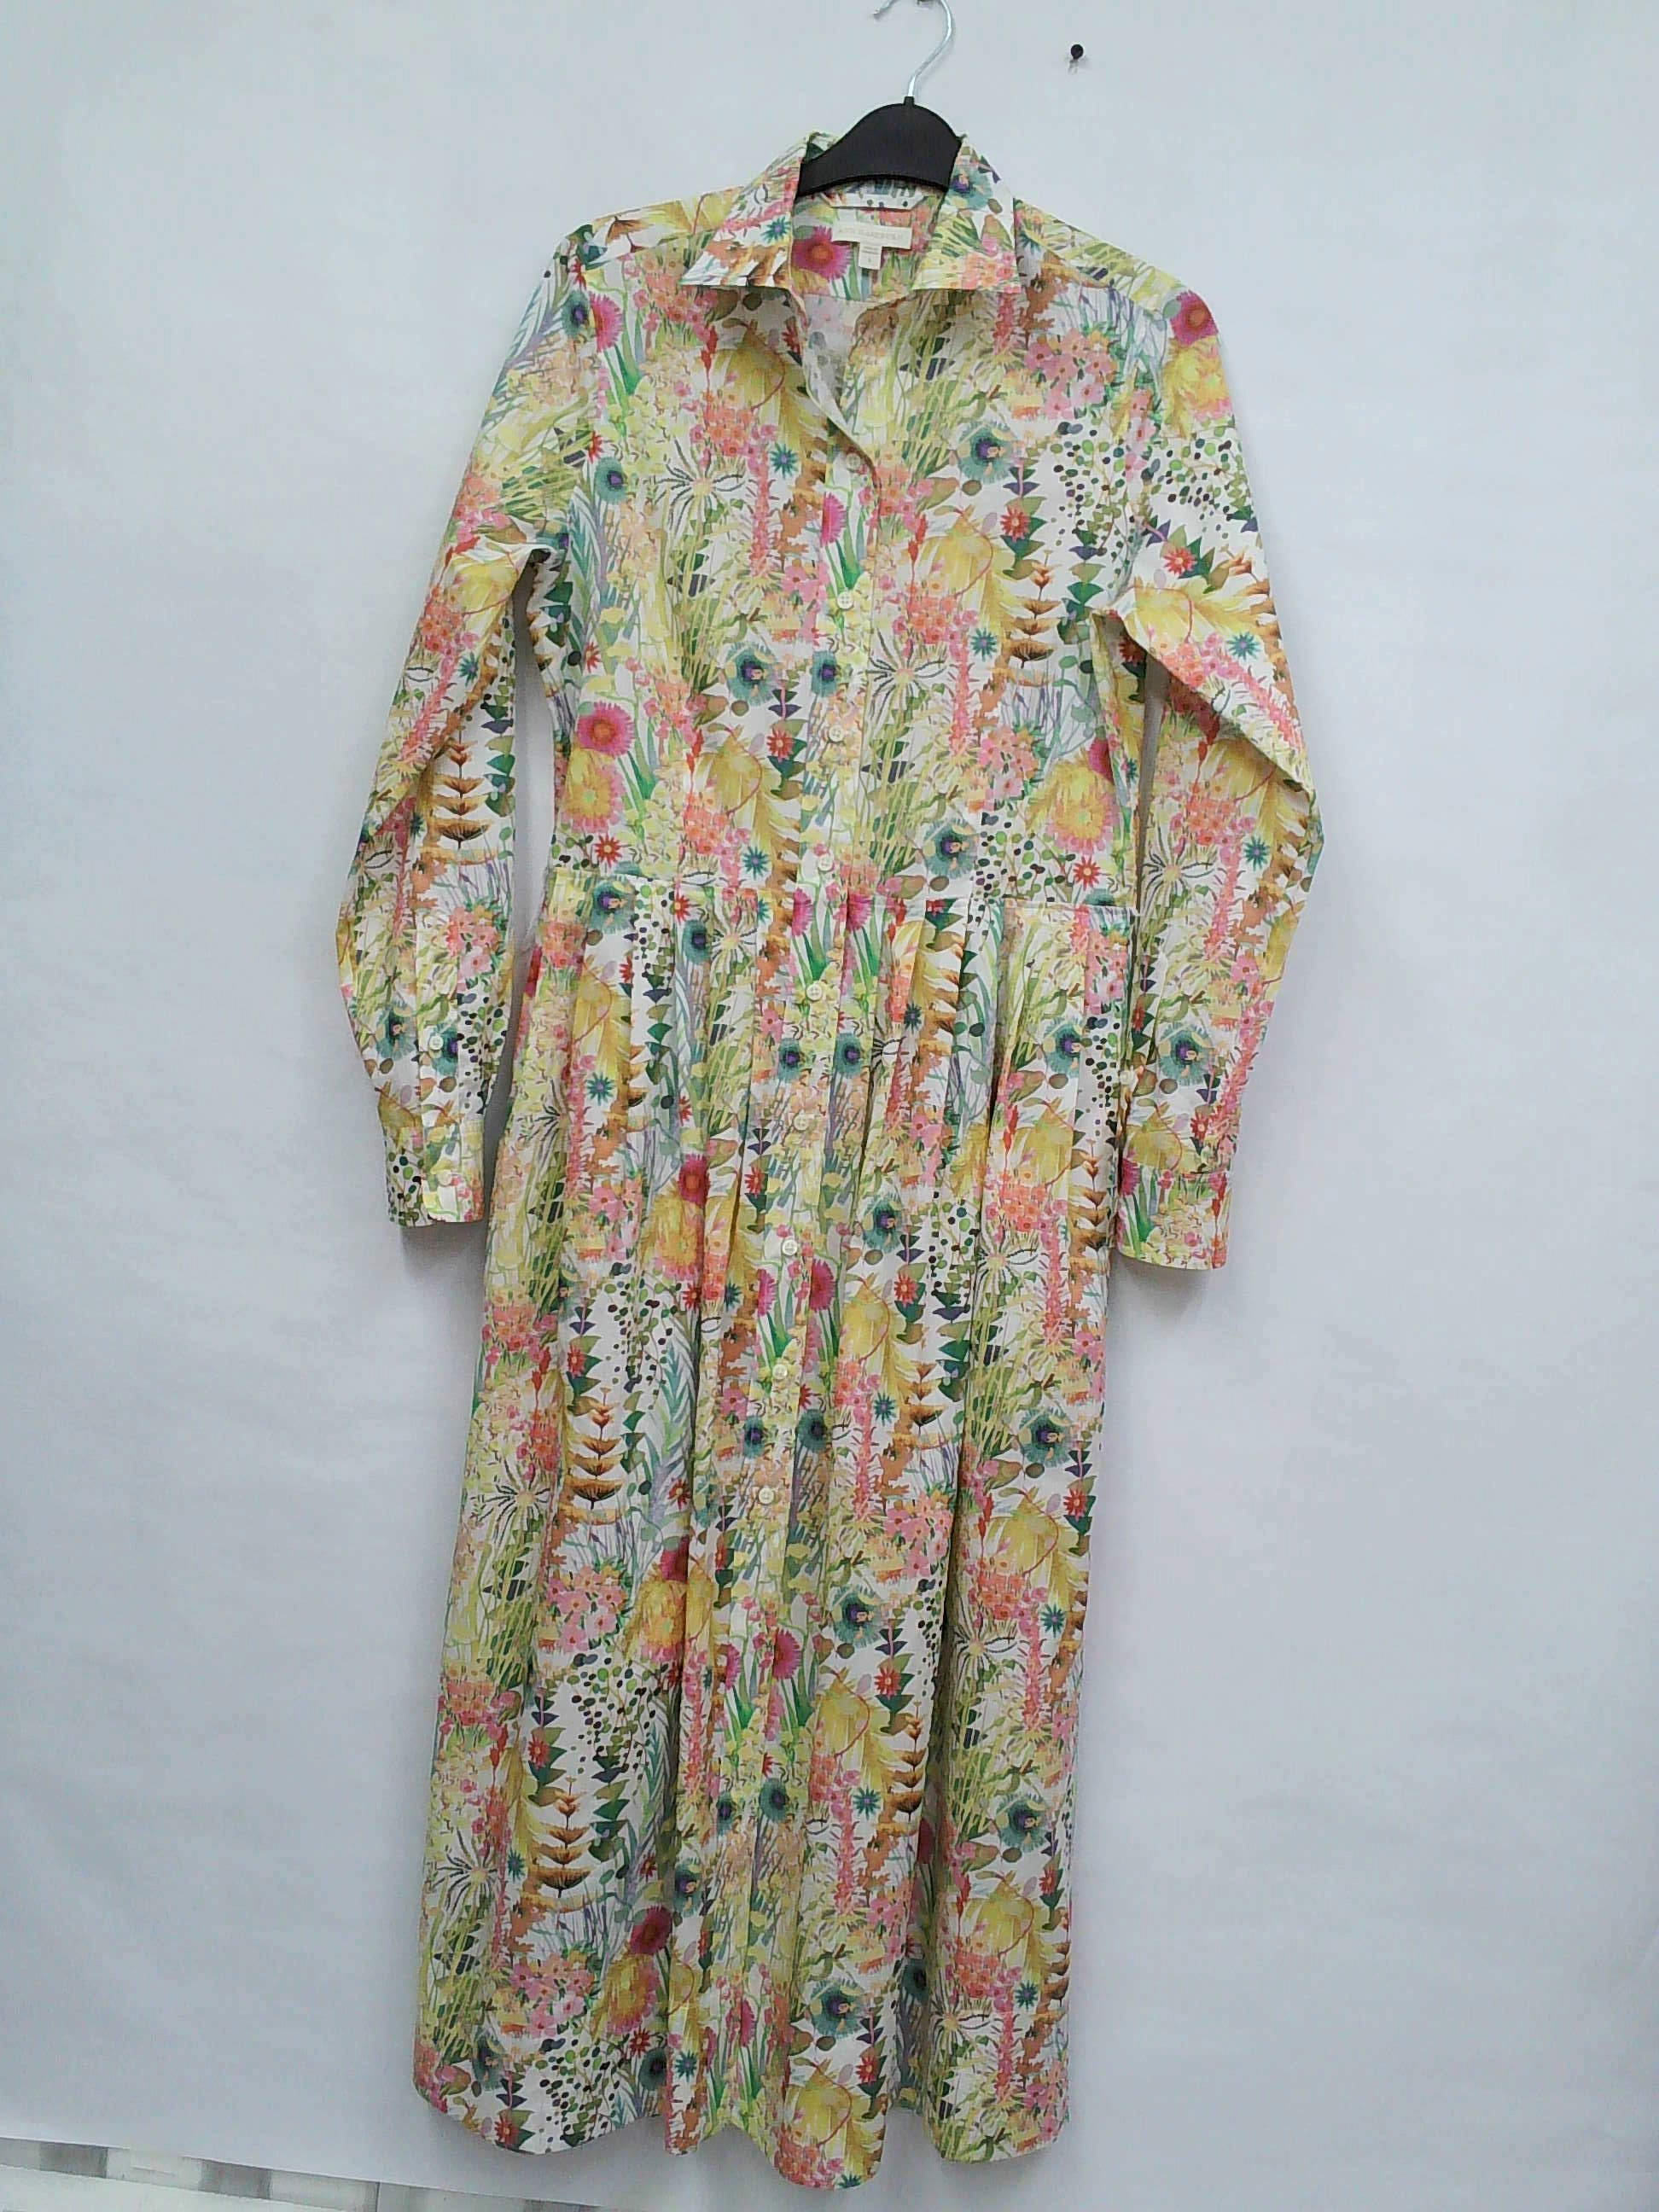seam: (655, 850, 809, 956)
